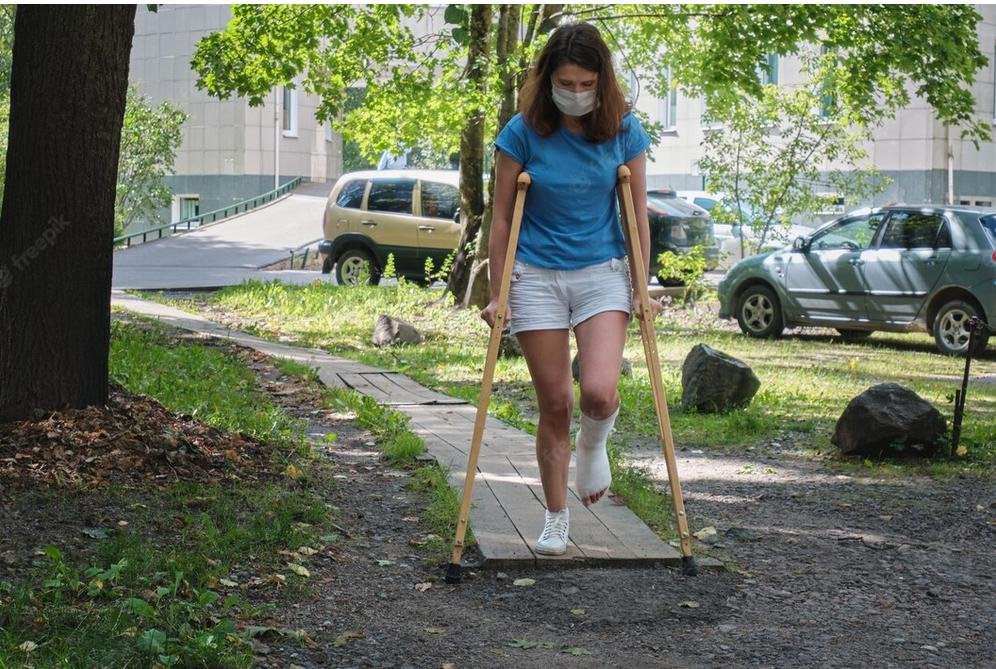crutches: (443, 21, 698, 584)
